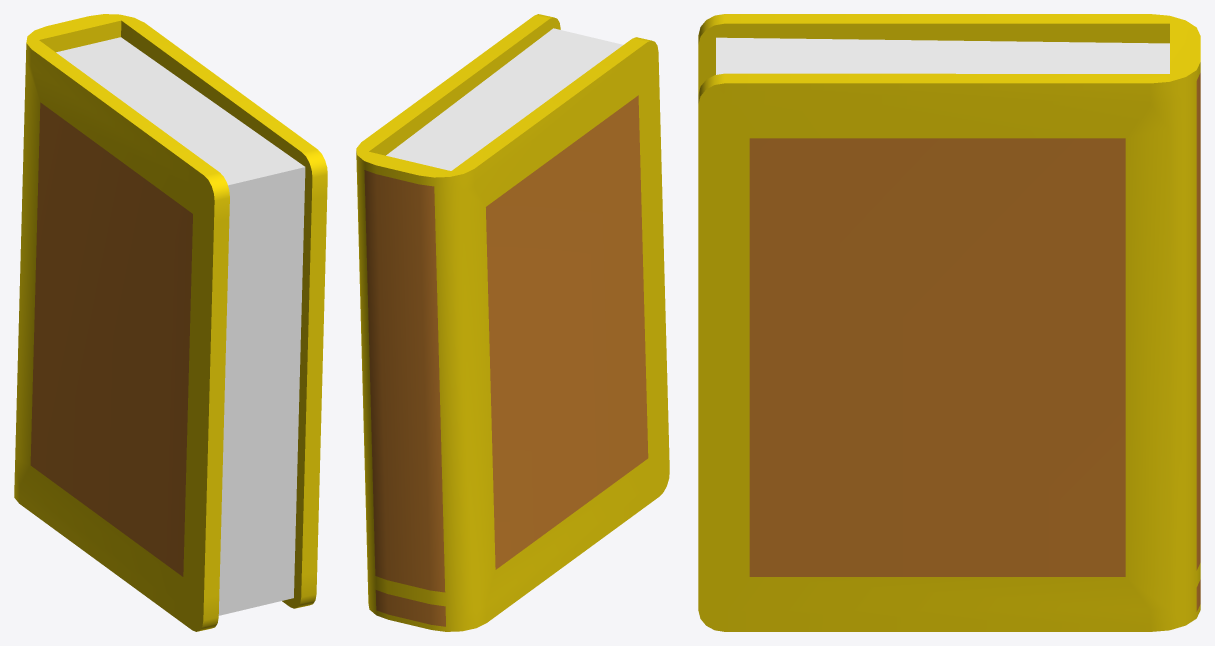
Rendered from book_5.fbx.
3 renders of one model, left to right at view 1: azimuth 30°, elevation 25°; view 2: azimuth 150°, elevation 25°; view 3: azimuth 270°, elevation 25°, orthographic. The views are drawn at different scales.
Parts seen in each view (by area): view 1: book_5; view 2: book_5; view 3: book_5.
Boxes of the visible parts, box(x1,y1,x2,y2) form: book_5: box(14, 14, 327, 631); book_5: box(356, 14, 669, 631); book_5: box(698, 14, 1200, 631).
Size of the model in its own units: 0.0908 by 0.3132 by 0.2557.
